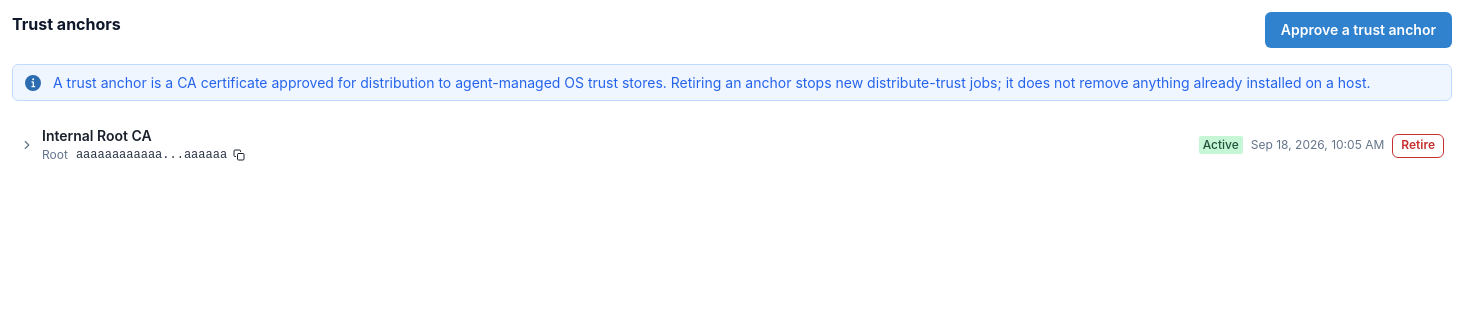
Scenario: TrustAnchorsPanel › surfaces a pendingReason as advisory text under a stuck-pending installation instead of a bare badge
Click the text "Internal Root CA" at (97, 136), box [42, 127, 152, 144]
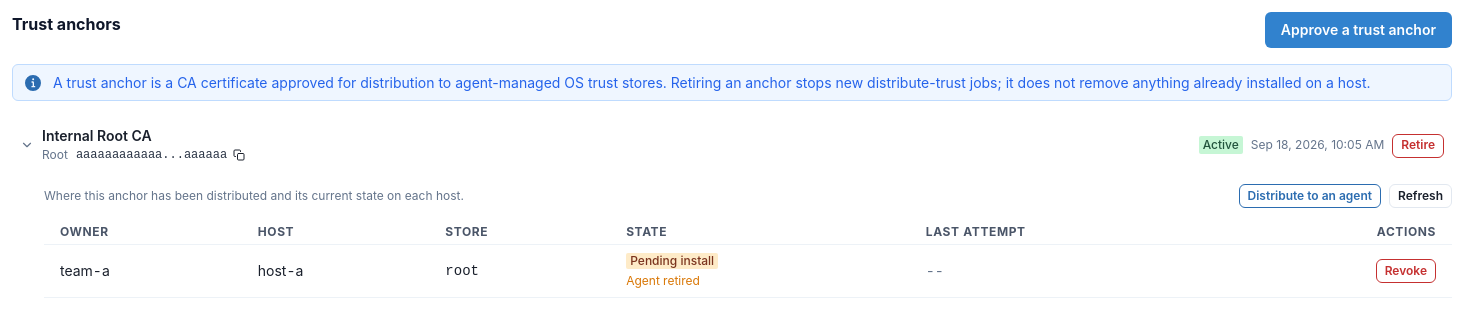
Now the text "Agent retired" is shown, box [626, 273, 700, 289]
